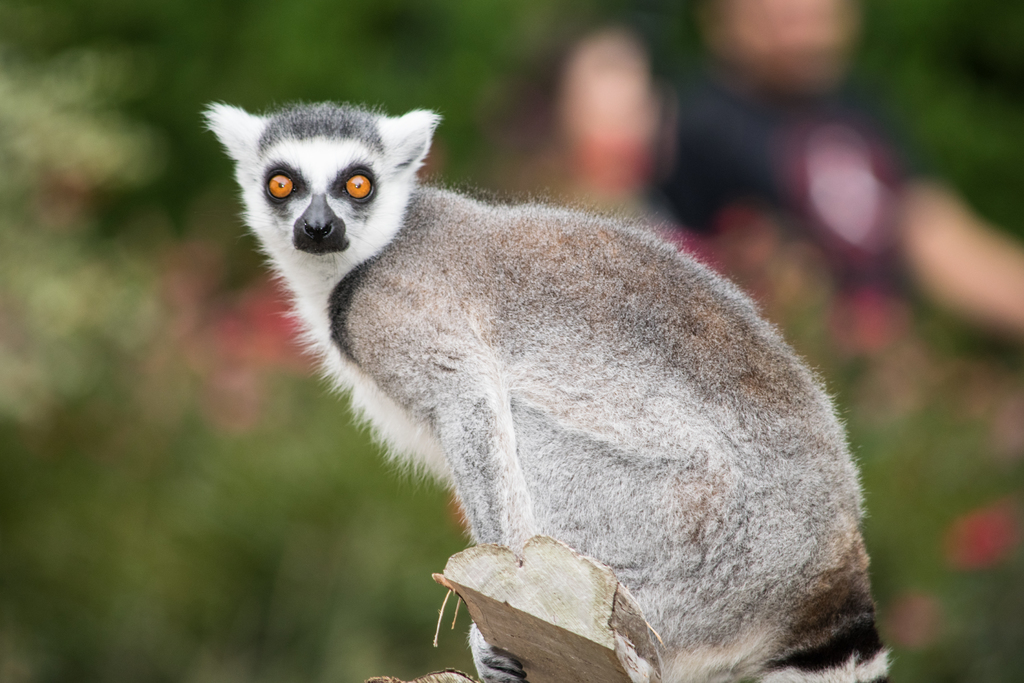person: (472, 21, 748, 299)
